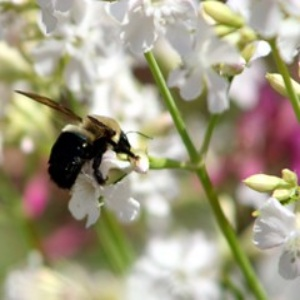bee: (14, 88, 148, 195)
